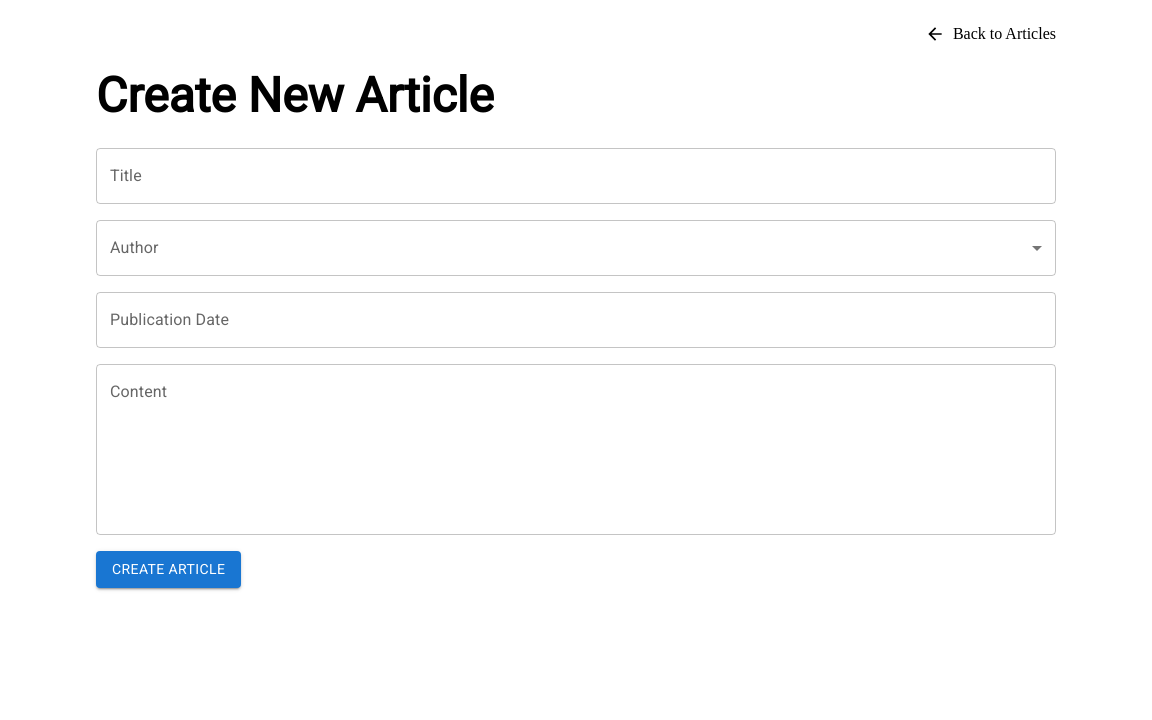
it: CreateOrEditTemplate Component › renders validation errors when submitting an empty form
Click the button with test id "submit-button".
click(169, 569)  # box [96, 551, 241, 588]
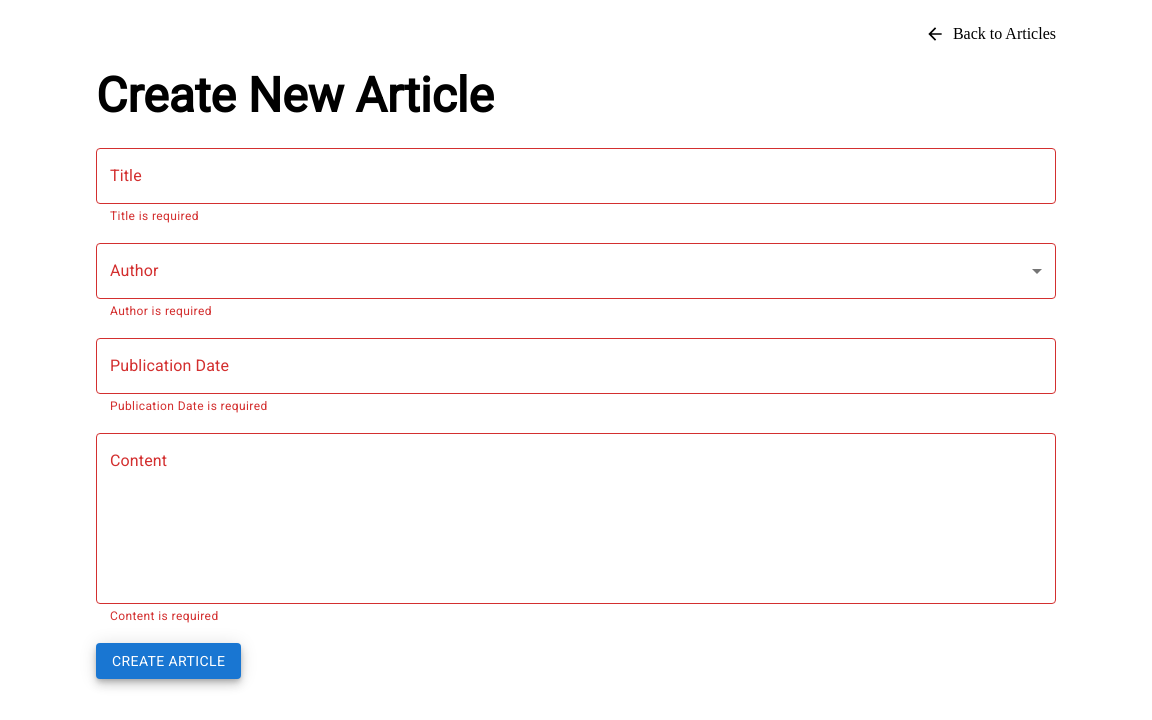
Expected: the text "Title is required" is shown, [110, 209, 199, 223]
Expected: the text "Author is required" is shown, [110, 304, 212, 318]
Expected: the text "Publication Date is required" is shown, [110, 399, 268, 413]
